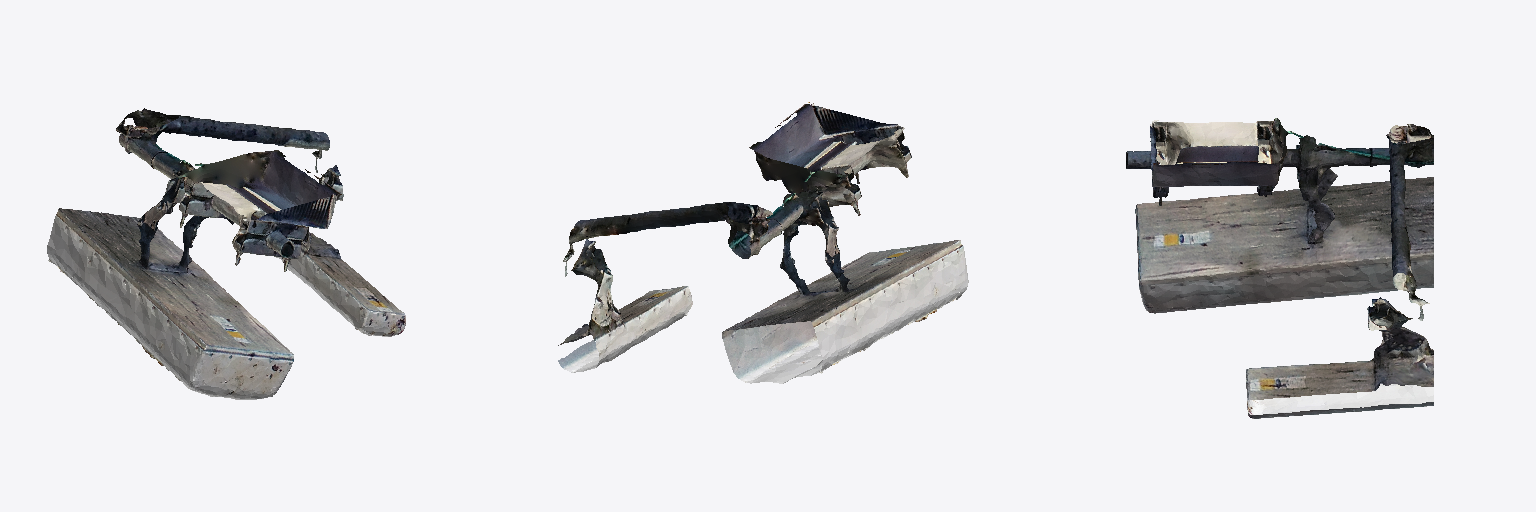
3 renders of one model, left to right at view 1: azimuth 30°, elevation 25°; view 2: azimuth 150°, elevation 25°; view 3: azimuth 270°, elevation 25°, orthographic.
Bounding box in the file's own units: 1.03 × 0.7503 × 1.03.
Materials: 2 (1 with a texture image).